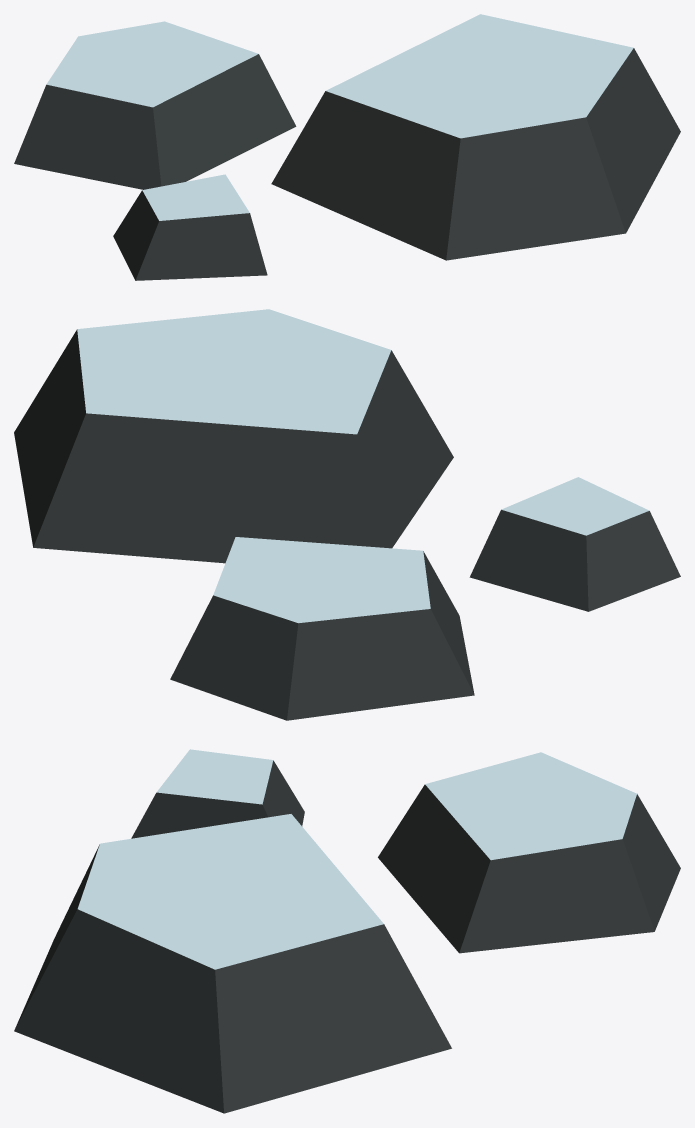
The model's file is SM_Env_Generic_River_Stone_02_Snow.fbx.
The picture shows the model from 3 angles, top to bottom: view 1: azimuth 30°, elevation 25°; view 2: azimuth 150°, elevation 25°; view 3: azimuth 270°, elevation 25°; orthographic projection. The views are drawn at different scales.
Parts seen in each view (by area): view 1: SM_Env_Generic_River_Stone_02_Snow; view 2: SM_Env_Generic_River_Stone_02_Snow; view 3: SM_Env_Generic_River_Stone_02_Snow.
Boxes of the visible parts, left/top/right/bottom form: SM_Env_Generic_River_Stone_02_Snow: left=14, top=14, right=680, bottom=280; SM_Env_Generic_River_Stone_02_Snow: left=14, top=309, right=680, bottom=720; SM_Env_Generic_River_Stone_02_Snow: left=14, top=749, right=680, bottom=1113.
Size of the model in its own units: 61.02 by 10.29 by 54.09.
1 material, 1 textured.
